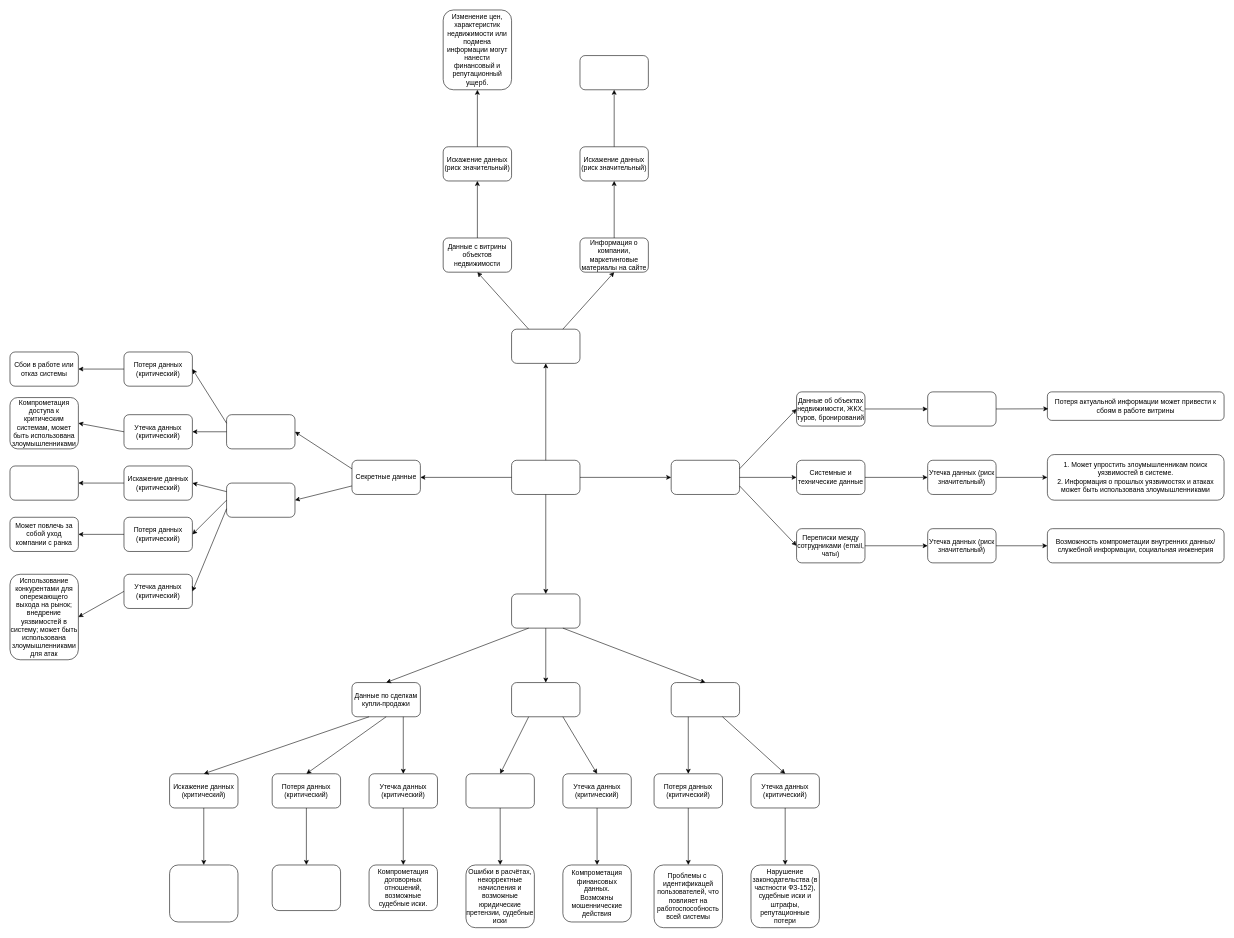
This 1234x938 diagram has some shape labels left out. The centre of each missing label's shape, as x and y in pixels:
Безопасность данных: [545,477]
Внедрение уязвимостей в систему: [43,482]
Внутренние данные: [705,477]
Договоры, платежные данные: [545,699]
Доступы и ключи: [260,431]
Искажение данных (значительный): [499,790]
Исходный код, информация об ИТ-архитектуре: [260,500]
Компрометация данных. Возможны мошеннические действия: [203,893]
Конфиденциальные данные: [545,610]
Нарушение договорных обязательств: [306,887]
Персональные данные клиентов и собственников: [705,699]
Потеря данных (риск критический): [961,408]
Публичные данные: [545,346]
Репутационные риски, недоверие клиентов компании: [613,72]
